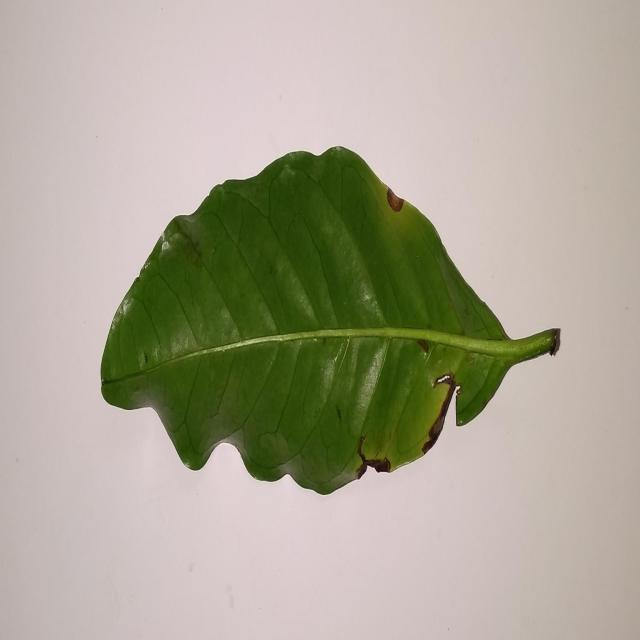Enfermedad-Antracnosis: (98, 148, 562, 498)
